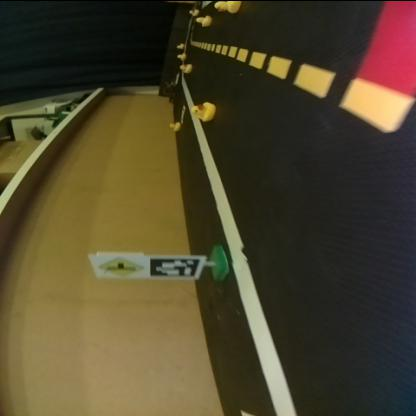Duckie: (192, 102, 214, 119), (215, 1, 240, 11), (196, 14, 210, 24), (179, 62, 191, 70), (176, 52, 184, 58), (176, 42, 183, 48), (188, 8, 196, 13), (169, 121, 177, 126)
Intersection sign: (94, 253, 142, 277)
QR code: (148, 255, 200, 277)
